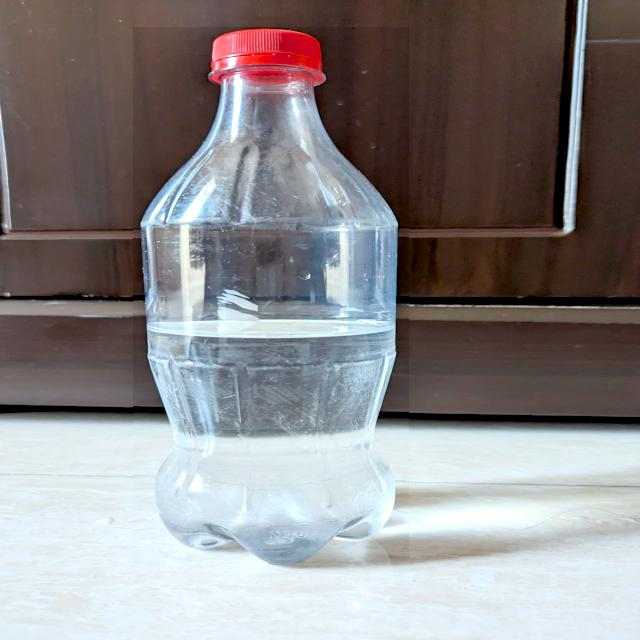half-bottle: (133, 28, 409, 564)
